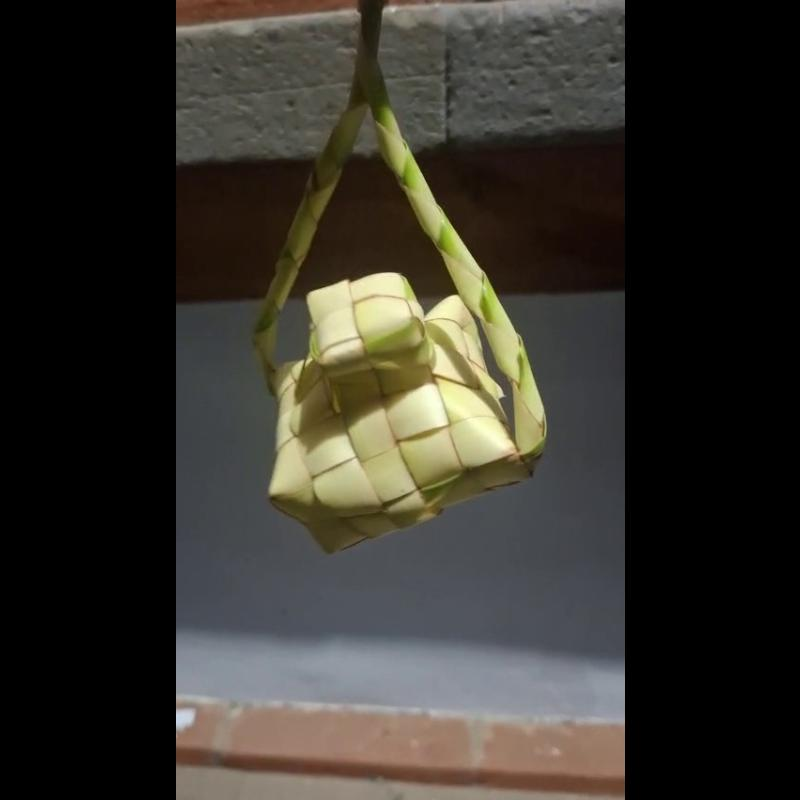Tipat Gong: (257, 0, 546, 557)
